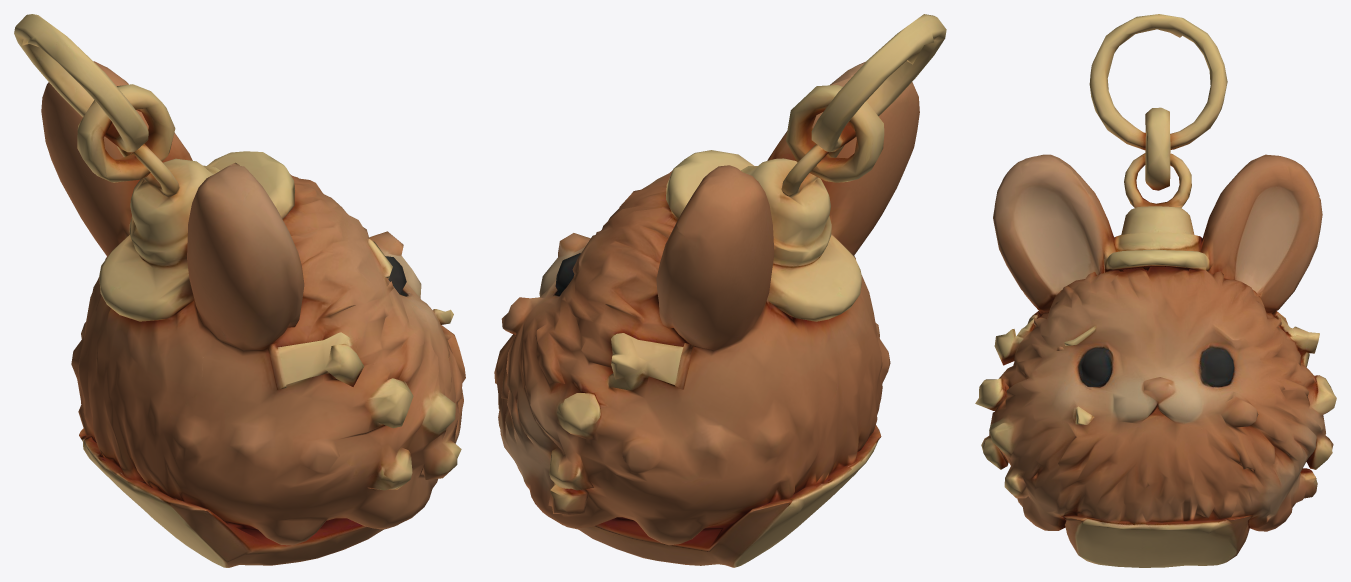
File: rabbits_foot.glb
3 views of the same model, side by side, from view 1: azimuth 30°, elevation 25°; view 2: azimuth 150°, elevation 25°; view 3: azimuth 270°, elevation 25° (orthographic). The views are drawn at different scales.
Visible parts, largest first — view 1: tripo_node_5a762b4b-4d52-418b-bbdd-d3c3d0ec7805; view 2: tripo_node_5a762b4b-4d52-418b-bbdd-d3c3d0ec7805; view 3: tripo_node_5a762b4b-4d52-418b-bbdd-d3c3d0ec7805.
Boxes of the visible parts, left/top/right/bottom form: tripo_node_5a762b4b-4d52-418b-bbdd-d3c3d0ec7805: left=14, top=14, right=465, bottom=567; tripo_node_5a762b4b-4d52-418b-bbdd-d3c3d0ec7805: left=494, top=14, right=946, bottom=567; tripo_node_5a762b4b-4d52-418b-bbdd-d3c3d0ec7805: left=975, top=14, right=1336, bottom=567.
Bounding box in the file's own units: 0.7276 × 0.9813 × 0.7274.
Materials: 1 (1 with a texture image).
